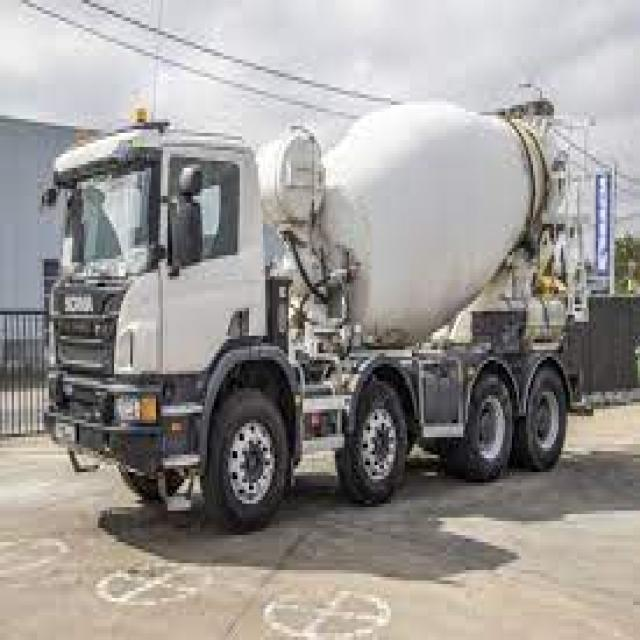Mixer Truck: (36, 95, 592, 536)
